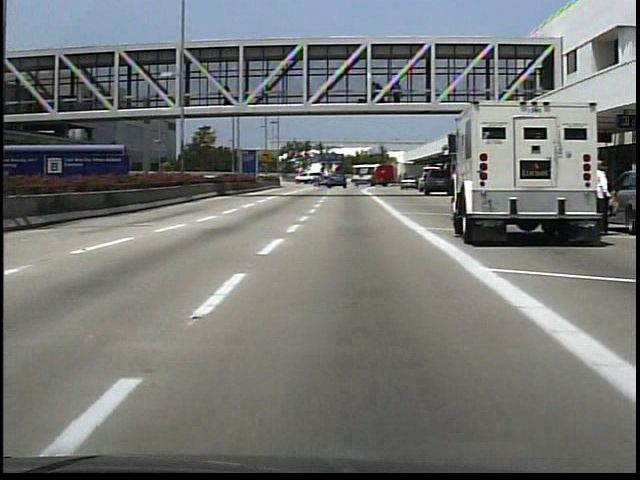person: (591, 155, 612, 241)
